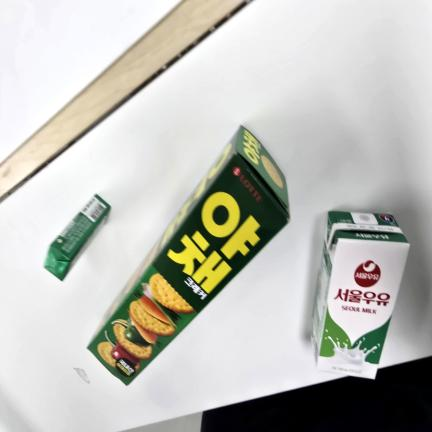cracker_vege: (86, 125, 290, 389)
gum_green: (42, 192, 111, 281)
milk_green: (309, 211, 410, 379)
